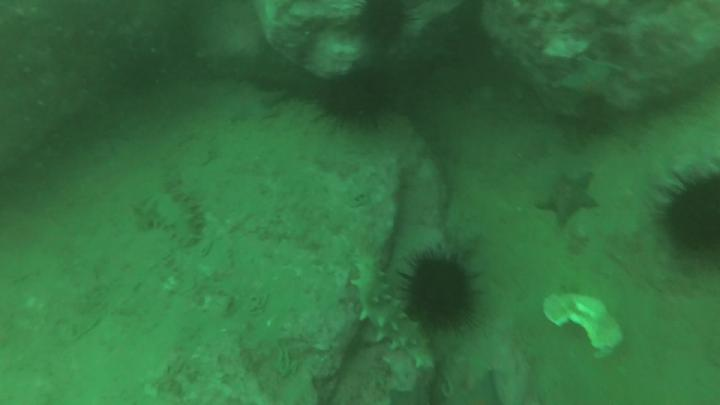echinus: (407, 257, 474, 328), (665, 175, 720, 256), (319, 75, 385, 124), (360, 4, 408, 41)
holothurian: (350, 257, 434, 370), (143, 191, 205, 248)
starfish: (537, 171, 598, 222)
